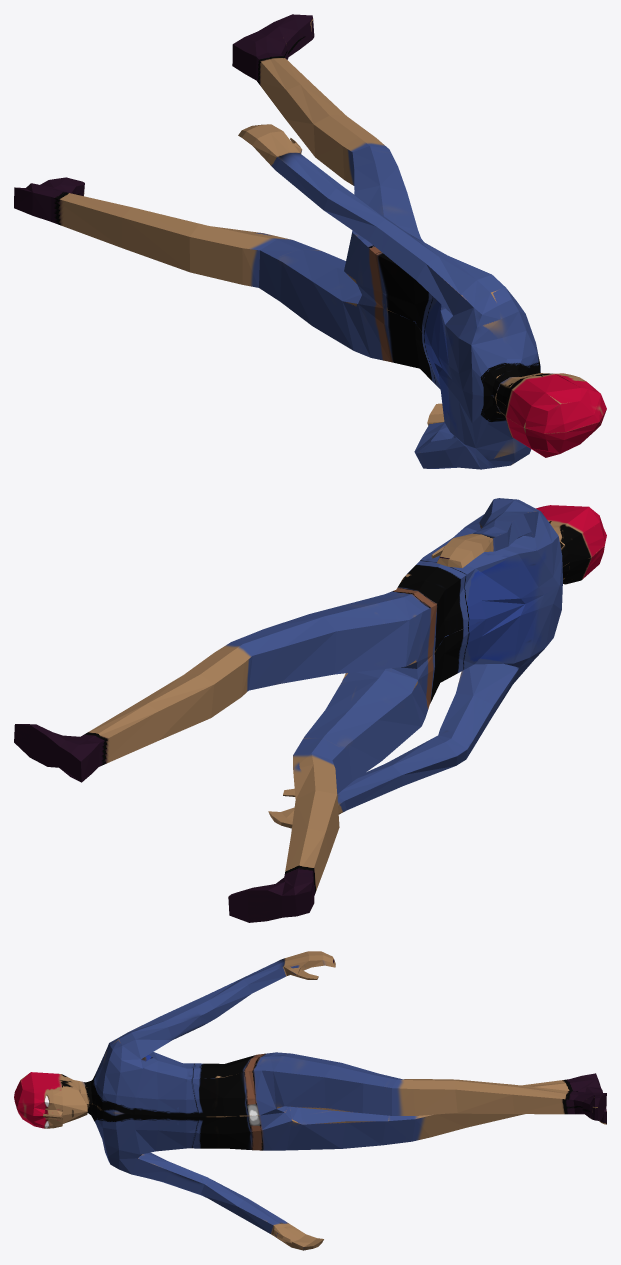
File: mirrorman_000013.obj
The picture shows the model from 3 angles, top to bottom: view 1: azimuth 30°, elevation 25°; view 2: azimuth 150°, elevation 25°; view 3: azimuth 270°, elevation 25°; orthographic projection. The views are drawn at different scales.
Parts seen in each view (by area): view 1: mirrorman_Cube.001_Material.001; view 2: mirrorman_Cube.001_Material.001; view 3: mirrorman_Cube.001_Material.001.
Boxes of the visible parts, x1,y1,x2,y2 form: mirrorman_Cube.001_Material.001: [14, 14, 606, 469]; mirrorman_Cube.001_Material.001: [14, 498, 606, 922]; mirrorman_Cube.001_Material.001: [14, 951, 606, 1250].
Bounding box in the file's own units: 0.755 × 0.8023 × 1.86.
